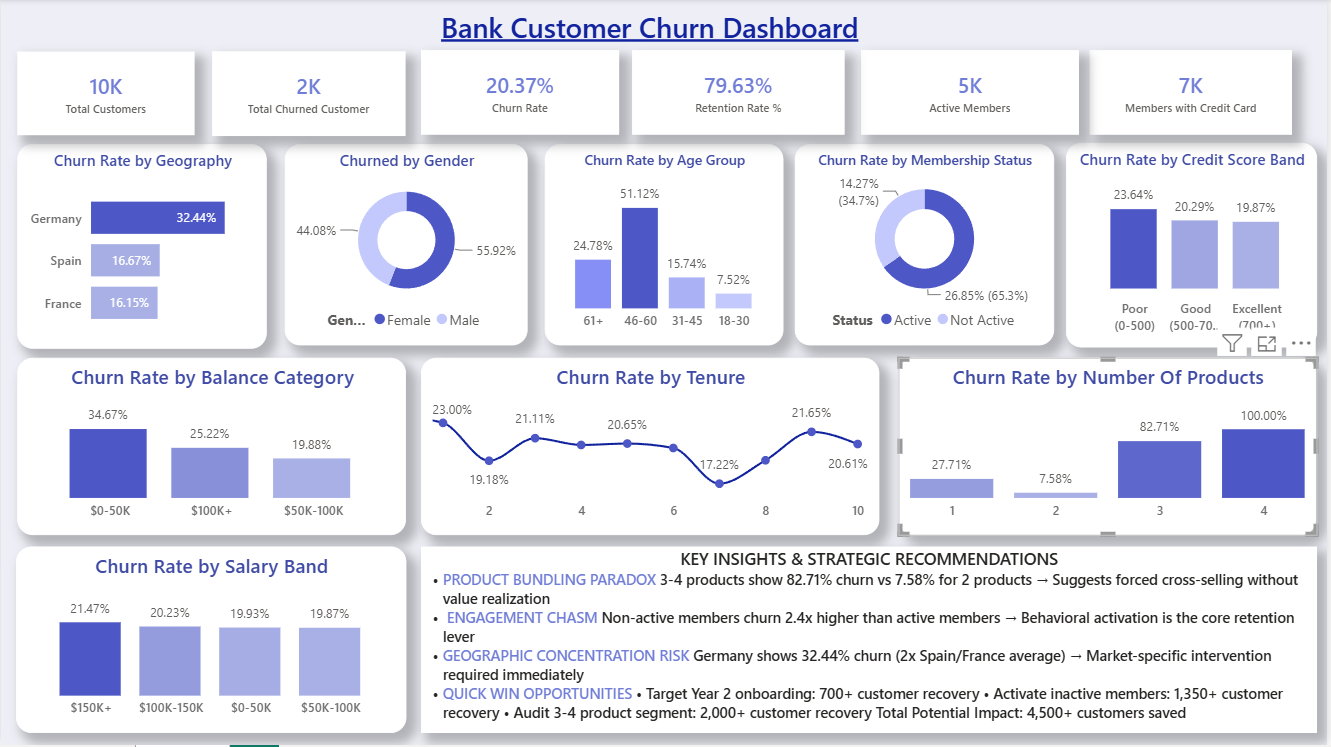

The dashboard page shown, as its layout file describes it:
{"tool":"powerbi","page":{"name":"Page 1","canvas":[1280,720],"ordinal":0},"visuals":[{"type":"clusteredBarChart","title":" Churn Rate by Geography","fields":{"Y":["Sum(By Geography.ChurnRate)"],"Category":["By Geography.Geography"]},"box":[15.6,140,241.1,197.8],"z":0},{"type":"donutChart","title":" Churned by Gender","fields":{"Y":["Sum(By Gender.Churned)"],"Category":["By Gender.Gender"]},"box":[273.3,140,234.4,194.4],"z":1000},{"type":"clusteredColumnChart","title":"Churn Rate by Age Group","fields":{"Y":["Sum(By Age.ChurnRate)"],"Category":["By Age.AgeGroup"]},"box":[524.4,140,230,194.4],"z":2000},{"type":"donutChart","title":" Churn Rate by Membership Status","fields":{"Y":["Sum(By Member Status.ChurnRate)"],"Category":["By Member Status.index"]},"box":[765.6,140,250,194.4],"z":3000},{"type":"clusteredColumnChart","title":"Churn Rate by Credit Score Band","fields":{"Category":["By Credit Score.CreditScoreBand"],"Y":["Sum(By Credit Score.ChurnRate)"]},"box":[1027.5,138.8,242.5,197.5],"z":4000},{"type":"clusteredColumnChart","title":" Churn Rate by Balance Category","fields":{"Category":["By Balance.BalanceCategory"],"Y":["Avg(By Balance.ChurnRate)"]},"box":[15.6,346.7,375.6,171.1],"z":5000},{"type":"lineChart","title":"Churn Rate by Tenure","fields":{"Y":["Sum(By Tenure.ChurnRate)"],"Category":["By Tenure.Tenure"]},"box":[405.6,346.7,442.2,171.1],"z":6000},{"type":"clusteredColumnChart","title":"Churn Rate by Number Of Products","fields":{"Y":["Sum(By Products.ChurnRate)"],"Category":["By Products.NumOfProducts"]},"box":[866.7,346.7,403.3,171.1],"z":7000},{"type":"clusteredColumnChart","title":"Churn Rate by Salary Band","fields":{"Y":["Sum(By Salary.ChurnRate)"],"Category":["By Salary.SalaryBand"]},"box":[14.5,528.4,376.4,179.8],"z":8000},{"type":"cardVisual","fields":{"Data":["Raw Data.Total Customers"]},"box":[15.6,51.1,171.1,81.1],"z":9000},{"type":"cardVisual","fields":{"Data":["Raw Data.Total Churned Customer"]},"box":[203.8,51.2,186.2,81.2],"z":10000},{"type":"cardVisual","fields":{"Data":["Raw Data.Churn Rate"]},"box":[405,50,191.2,81.2],"z":11000},{"type":"cardVisual","fields":{"Data":["Raw Data.Members with Credit Card"]},"box":[1051.2,50,195,81.2],"z":12000},{"type":"cardVisual","fields":{"Data":["Raw Data.Active Members"]},"box":[830,50,210,81.2],"z":13000},{"type":"textbox","box":[297.5,3.8,656.2,177.5],"z":14000},{"type":"cardVisual","fields":{"Data":["Raw Data.Retention Rate %"]},"box":[608.8,50,205,81.2],"z":15000},{"type":"textbox","box":[405,528.8,865,180],"z":16003}]}

Visuals, with their boxes in screenshot pixels (x1, y1, x2, y2), scaled from the page's 1280x720 canvas onto the 1331x747 screenshot:
" Churn Rate by Geography" clusteredBarChart: {"x1": 16, "y1": 145, "x2": 267, "y2": 350}
" Churned by Gender" donutChart: {"x1": 284, "y1": 145, "x2": 528, "y2": 347}
"Churn Rate by Age Group" clusteredColumnChart: {"x1": 545, "y1": 145, "x2": 784, "y2": 347}
" Churn Rate by Membership Status" donutChart: {"x1": 796, "y1": 145, "x2": 1056, "y2": 347}
"Churn Rate by Credit Score Band" clusteredColumnChart: {"x1": 1068, "y1": 144, "x2": 1321, "y2": 349}
" Churn Rate by Balance Category" clusteredColumnChart: {"x1": 16, "y1": 360, "x2": 407, "y2": 537}
"Churn Rate by Tenure" lineChart: {"x1": 422, "y1": 360, "x2": 882, "y2": 537}
"Churn Rate by Number Of Products" clusteredColumnChart: {"x1": 901, "y1": 360, "x2": 1321, "y2": 537}
"Churn Rate by Salary Band" clusteredColumnChart: {"x1": 15, "y1": 548, "x2": 406, "y2": 735}
cardVisual - Raw Data.Total Customers: {"x1": 16, "y1": 53, "x2": 194, "y2": 137}
cardVisual - Raw Data.Total Churned Customer: {"x1": 212, "y1": 53, "x2": 406, "y2": 137}
cardVisual - Raw Data.Churn Rate: {"x1": 421, "y1": 52, "x2": 620, "y2": 136}
cardVisual - Raw Data.Members with Credit Card: {"x1": 1093, "y1": 52, "x2": 1296, "y2": 136}
cardVisual - Raw Data.Active Members: {"x1": 863, "y1": 52, "x2": 1081, "y2": 136}
textbox: {"x1": 309, "y1": 4, "x2": 992, "y2": 188}
cardVisual - Raw Data.Retention Rate %: {"x1": 633, "y1": 52, "x2": 846, "y2": 136}
textbox: {"x1": 421, "y1": 549, "x2": 1321, "y2": 735}
